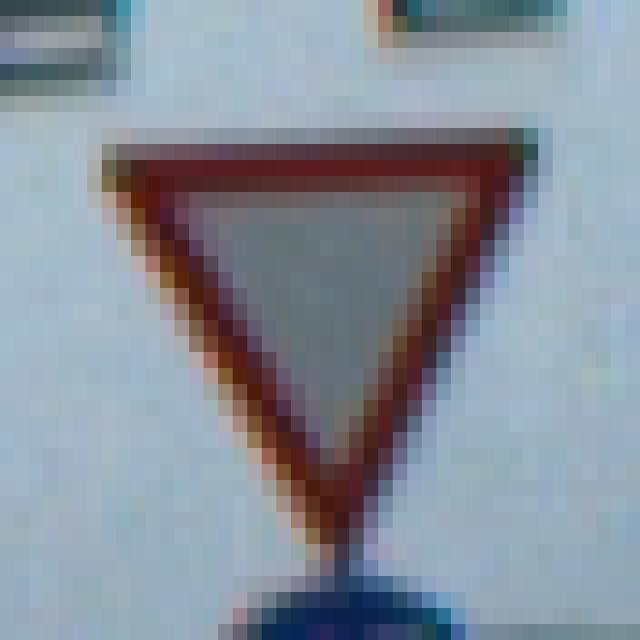Give Way: (74, 97, 568, 561)
